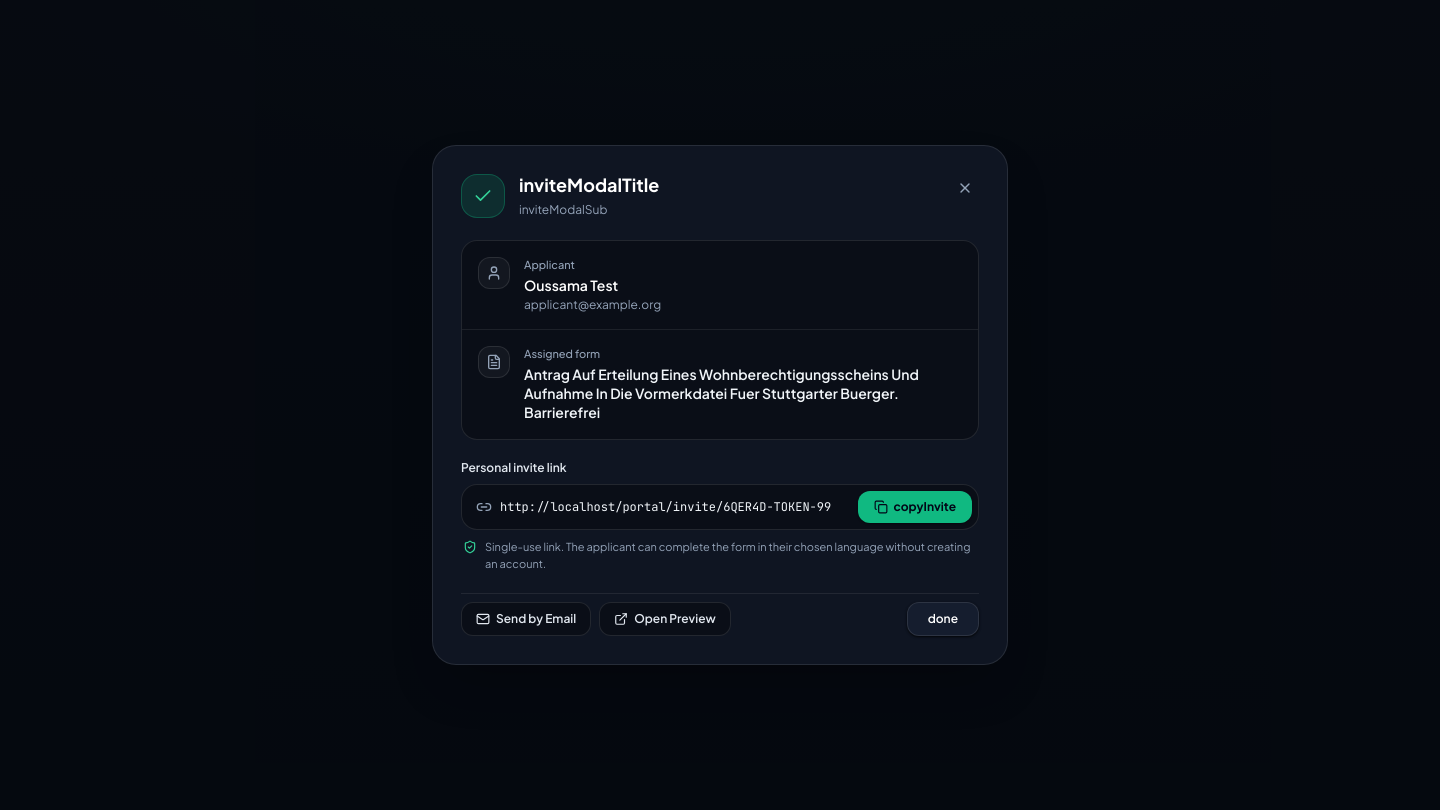
Test case: InviteSuccessModal › copies invite URL to clipboard and shows copied state
The image size is (1440, 810).
Click the button "copyInvite" at (915, 506), box [858,490,972,522]
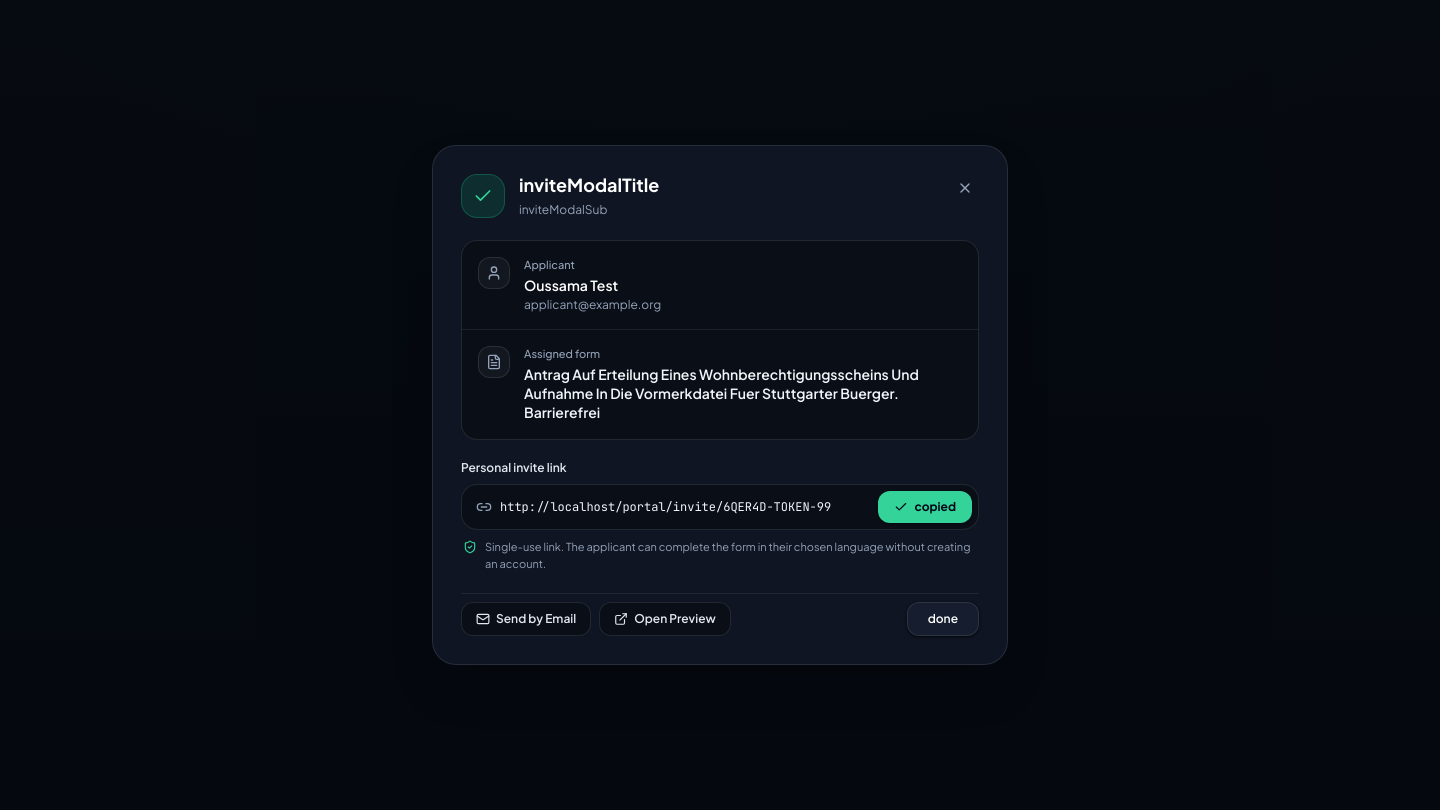
Result: the button "copied" is shown at [878,490,972,522]
